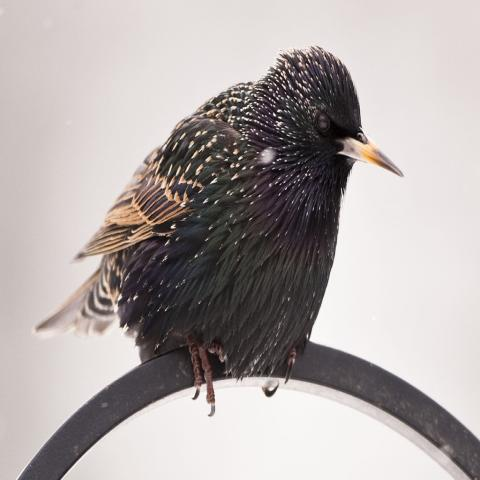bird: (32, 42, 405, 417)
